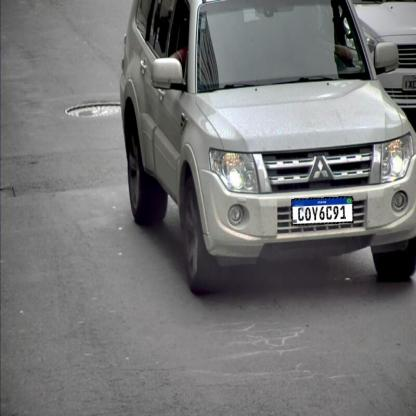PlacaM: (291, 196, 354, 226)
